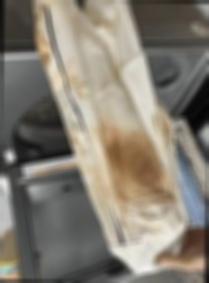earth: (109, 143, 154, 186), (43, 54, 51, 66)
